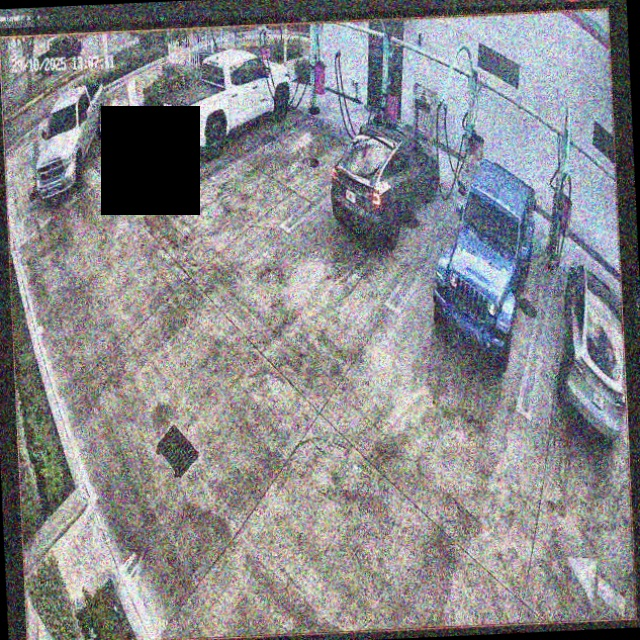Car: (428, 160, 543, 378), (329, 111, 443, 248), (160, 50, 292, 155)
